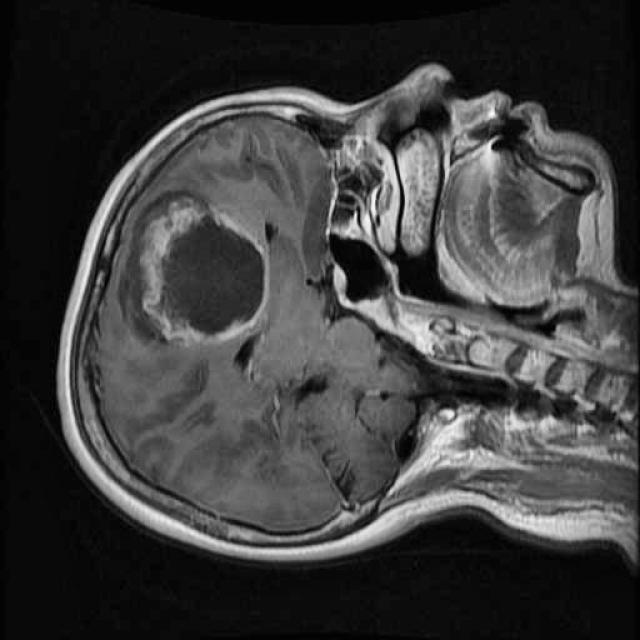Non-Tumor: (114, 160, 289, 365)
